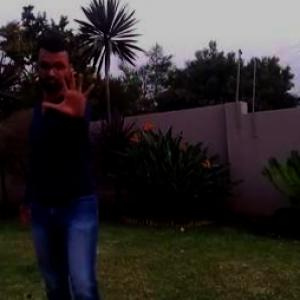follow_hand: (39, 65, 98, 123)
